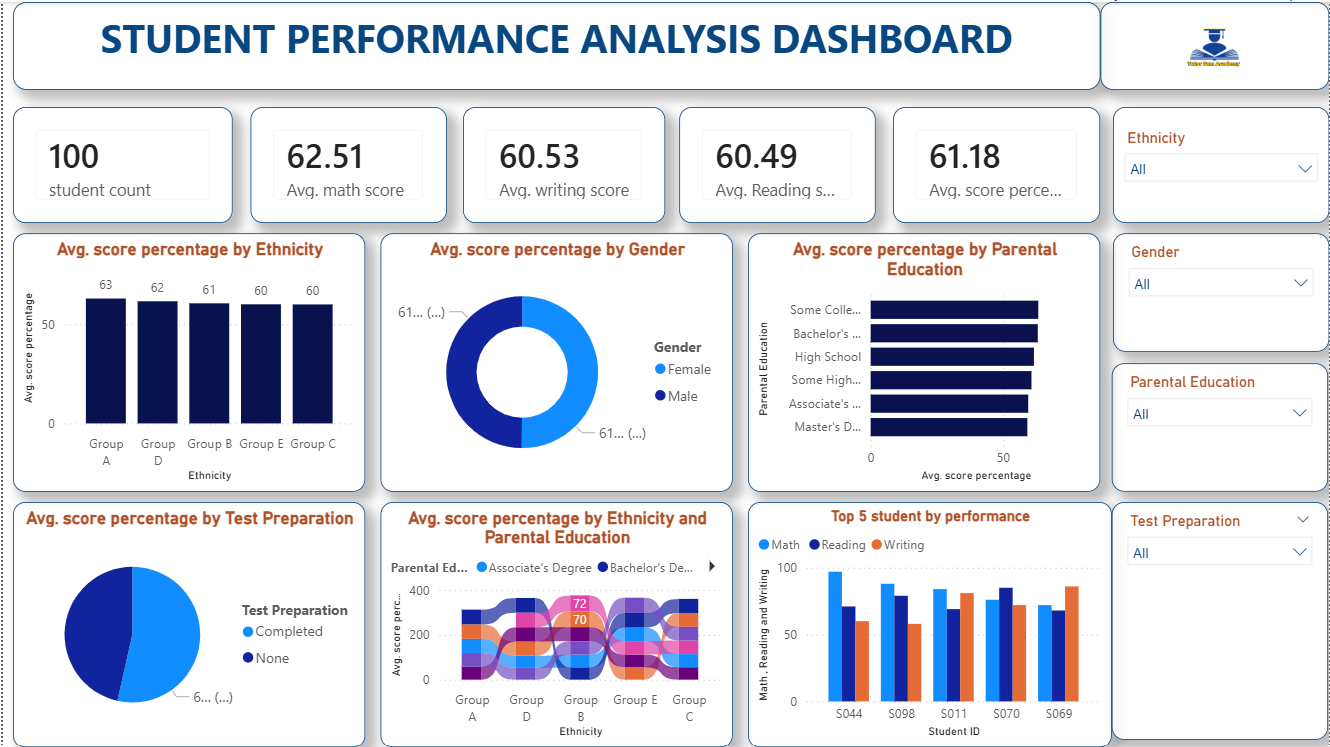

The dashboard page shown, as its layout file describes it:
{"tool":"powerbi","page":{"name":"All subject dashboard","canvas":[1280,720],"ordinal":0},"visuals":[{"type":"textbox","box":[9.7,0,1049.6,84.5],"z":0},{"type":"image","box":[1059.3,0,220.8,84.5],"z":1000},{"type":"cardVisual","fields":{"Data":["CountNonNull(MARKS.Student ID)"]},"box":[9.7,101.3,212.3,112.2],"z":2000},{"type":"cardVisual","fields":{"Data":["Avg(MARKS.Math Score)"]},"box":[238.9,101.3,189.4,112.2],"z":3000},{"type":"cardVisual","fields":{"Data":["Avg(MARKS.Writing Score)"]},"box":[444,101.3,195.4,112.2],"z":4000},{"type":"cardVisual","fields":{"Data":["Avg(MARKS.Reading Score)"]},"box":[652.7,101.3,189.4,112.2],"z":5000},{"type":"cardVisual","fields":{"Data":["MARKS.aveage score percentage"]},"box":[859,101.3,200.3,112.2],"z":6000},{"type":"slicer","fields":{"Values":["MARKS.Ethnicity"]},"box":[1071.3,101.3,208.7,112.2],"z":7000},{"type":"slicer","fields":{"Values":["MARKS.Gender"]},"box":[1071.3,223.2,208.7,114.6],"z":8000},{"type":"slicer","fields":{"Values":["MARKS.Parental Education"]},"box":[1070.1,348.7,208.7,124.3],"z":9000},{"type":"columnChart","fields":{"Category":["MARKS.Ethnicity"],"Y":["MARKS.aveage score percentage"]},"box":[9.7,223.2,340.2,249.7],"z":10000},{"type":"donutChart","fields":{"Category":["MARKS.Gender"],"Y":["MARKS.aveage score percentage"]},"box":[364.3,223.2,340.2,249.7],"z":11000},{"type":"clusteredBarChart","fields":{"Y":["MARKS.aveage score percentage"],"Category":["MARKS.Parental Education"]},"box":[719,223.2,340.2,249.7],"z":12000},{"type":"pieChart","fields":{"Y":["MARKS.aveage score percentage"],"Category":["MARKS.Test Preparation"]},"box":[9.7,482.6,340.2,237.7],"z":13000},{"type":"ribbonChart","fields":{"Category":["MARKS.Ethnicity"],"Y":["MARKS.aveage score percentage"],"Series":["MARKS.Parental Education"]},"box":[364.3,482.6,340.2,237.7],"z":14000},{"type":"clusteredColumnChart","title":"Top 5 student by performance","fields":{"Y":["MARKS.Average math score","MARKS.average reading score","MARKS.Average writing score"],"Category":["MARKS.Student ID"]},"box":[719,482.6,351.1,237.7],"z":15000},{"type":"slicer","fields":{"Values":["MARKS.Test Preparation"]},"box":[1070.1,482.6,208.7,229.2],"z":16000}]}

Visuals, with their boxes in screenshot pixels (x1, y1, x2, y2), scaled from the page's 1280x720 canvas onto the 1330x747 screenshot:
textbox: (x1=10, y1=0, x2=1101, y2=88)
image: (x1=1101, y1=0, x2=1329, y2=88)
cardVisual - CountNonNull(MARKS.Student ID): (x1=10, y1=105, x2=231, y2=222)
cardVisual - Avg(MARKS.Math Score): (x1=248, y1=105, x2=445, y2=222)
cardVisual - Avg(MARKS.Writing Score): (x1=461, y1=105, x2=664, y2=222)
cardVisual - Avg(MARKS.Reading Score): (x1=678, y1=105, x2=875, y2=222)
cardVisual - MARKS.aveage score percentage: (x1=893, y1=105, x2=1101, y2=222)
slicer - MARKS.Ethnicity: (x1=1113, y1=105, x2=1329, y2=222)
slicer - MARKS.Gender: (x1=1113, y1=232, x2=1329, y2=350)
slicer - MARKS.Parental Education: (x1=1112, y1=362, x2=1329, y2=491)
columnChart - MARKS.Ethnicity x MARKS.aveage score percentage: (x1=10, y1=232, x2=364, y2=491)
donutChart - MARKS.Gender x MARKS.aveage score percentage: (x1=379, y1=232, x2=732, y2=491)
clusteredBarChart - MARKS.aveage score percentage x MARKS.Parental Education: (x1=747, y1=232, x2=1101, y2=491)
pieChart - MARKS.aveage score percentage x MARKS.Test Preparation: (x1=10, y1=501, x2=364, y2=746)
ribbonChart - MARKS.Ethnicity x MARKS.aveage score percentage: (x1=379, y1=501, x2=732, y2=746)
"Top 5 student by performance" clusteredColumnChart: (x1=747, y1=501, x2=1112, y2=746)
slicer - MARKS.Test Preparation: (x1=1112, y1=501, x2=1329, y2=738)
